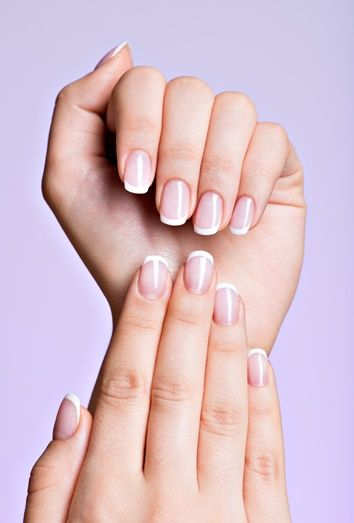nails: (176, 241, 219, 298), (47, 384, 89, 442), (131, 250, 174, 302), (115, 143, 156, 196), (225, 181, 262, 239), (154, 176, 194, 227), (187, 187, 227, 237), (209, 279, 245, 331), (243, 344, 278, 392), (90, 38, 136, 73)
